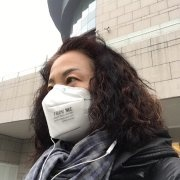Mask: (38, 65, 98, 125)
